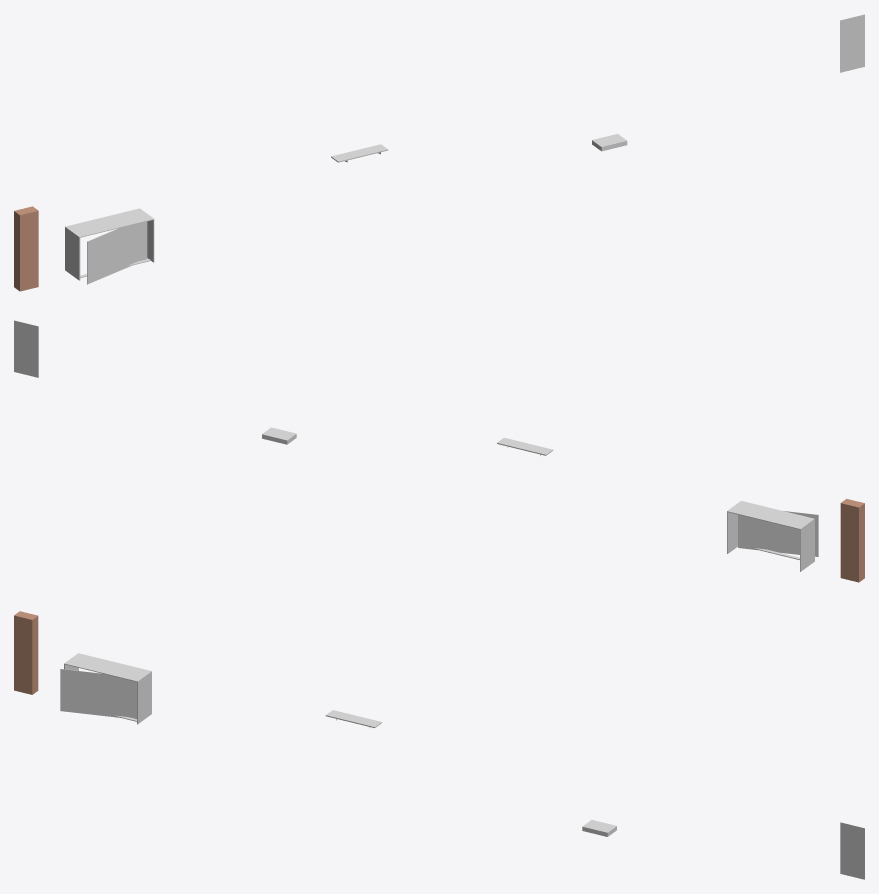
The model's file is ejemplo.glb.
3 renders of one model, top to bottom at view 1: azimuth 30°, elevation 25°; view 2: azimuth 150°, elevation 25°; view 3: azimuth 330°, elevation 25°, orthographic.
Visible parts, largest first — view 1: Frente curvo, Persona 1.75, Vidrio, Tapa superior, Lateral; view 2: Frente curvo, Persona 1.75, Vidrio, Tapa superior, Lateral; view 3: Frente curvo, Persona 1.75, Vidrio, Tapa superior, Lateral.001.
Boxes of the visible parts, x1,y1,x2,y2 form: Frente curvo: [87, 221, 147, 284]; Persona 1.75: [14, 206, 38, 291]; Vidrio: [840, 14, 864, 72]; Tapa superior: [65, 208, 154, 237]; Lateral: [65, 227, 80, 280]; Frente curvo: [738, 510, 818, 556]; Persona 1.75: [840, 498, 864, 582]; Vidrio: [14, 320, 38, 377]; Tapa superior: [727, 501, 814, 529]; Lateral: [800, 519, 814, 571]; Frente curvo: [60, 669, 136, 718]; Persona 1.75: [14, 611, 38, 694]; Vidrio: [840, 822, 864, 879]; Tapa superior: [64, 653, 151, 682]; Lateral.001: [137, 672, 151, 724].
Bounding box in the file's own units: 20.53 × 1.75 × 0.8456.
7 materials, 1 textured.
